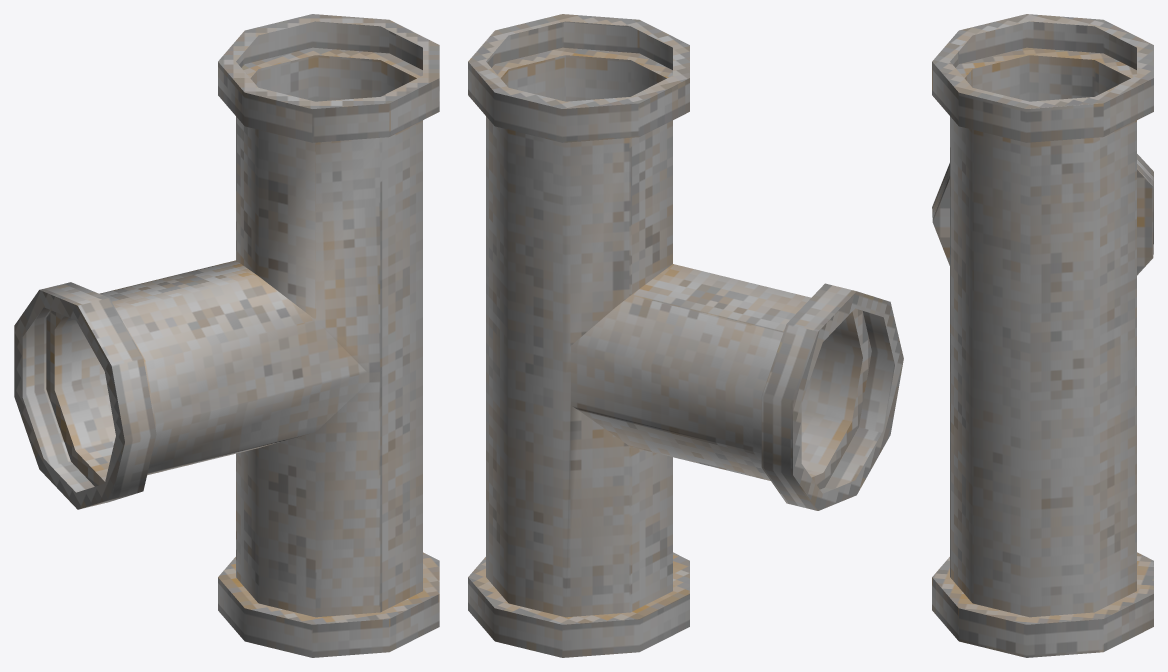
File: PipeTJoint.fbx
3 renders of one model, left to right at view 1: azimuth 30°, elevation 25°; view 2: azimuth 150°, elevation 25°; view 3: azimuth 270°, elevation 25°, orthographic.
Parts seen in each view (by area): view 1: PipeTJoint; view 2: PipeTJoint; view 3: PipeTJoint.
Boxes of the visible parts, left/top/right/bottom form: PipeTJoint: left=14, top=14, right=439, bottom=657; PipeTJoint: left=468, top=14, right=903, bottom=657; PipeTJoint: left=932, top=14, right=1153, bottom=657.
Size of the model in its own units: 7.47 by 14.08 by 20.4.
